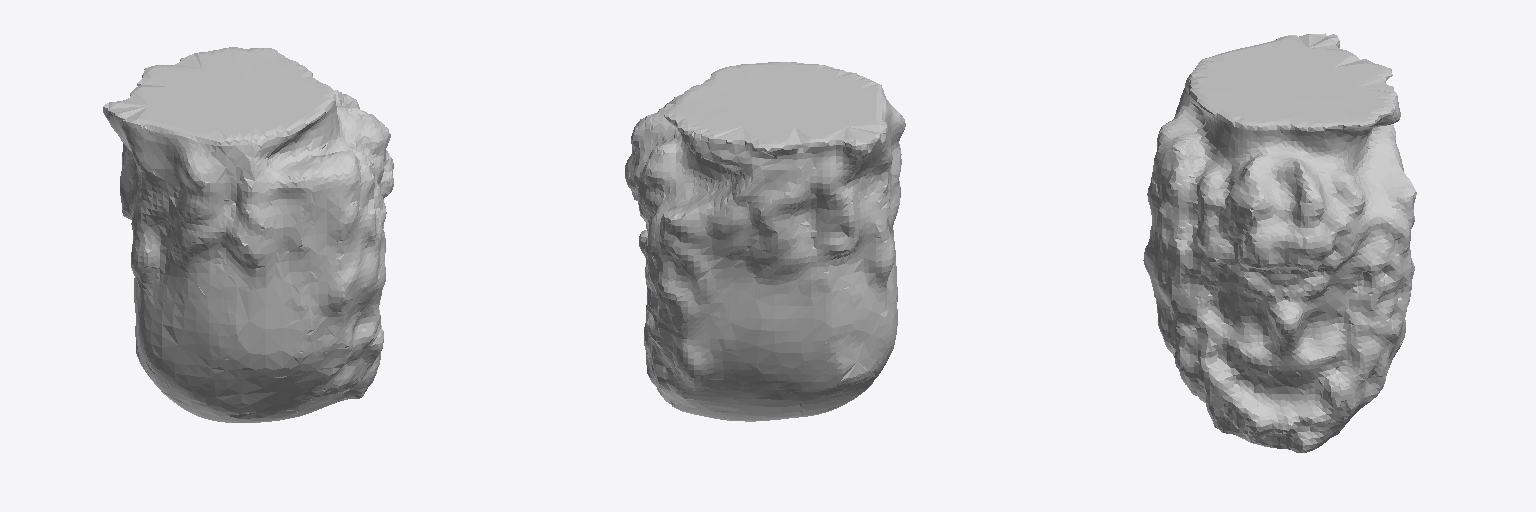
File: serapis-lr.obj
3 views of the same model, side by side, from view 1: azimuth 30°, elevation 25°; view 2: azimuth 150°, elevation 25°; view 3: azimuth 270°, elevation 25° (orthographic).
Visible parts, largest first — view 1: serapis; view 2: serapis; view 3: serapis.
Part boxes in pixels (x1,y1,x2,y2): serapis: (103,47,393,422); serapis: (625,62,905,421); serapis: (1143,33,1416,452).
Size of the model in its own units: 1.9 by 2.31 by 1.76.